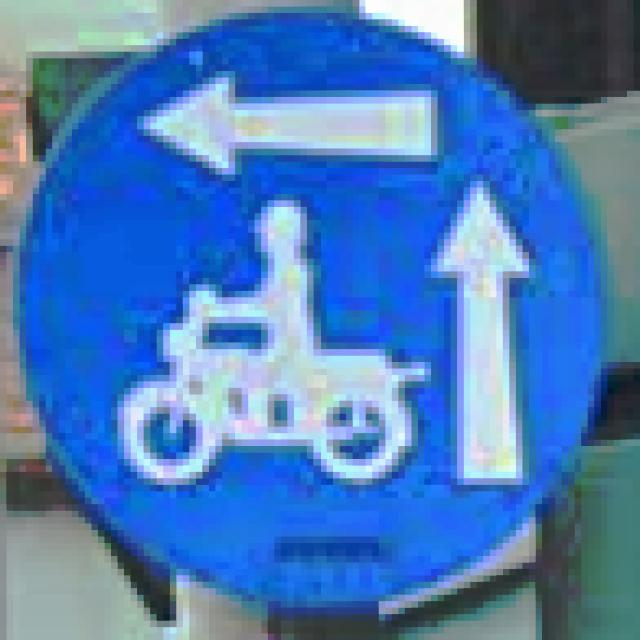twostageturn: (6, 0, 614, 614)
